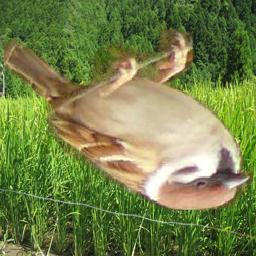Sparrow: (5, 30, 254, 211)
